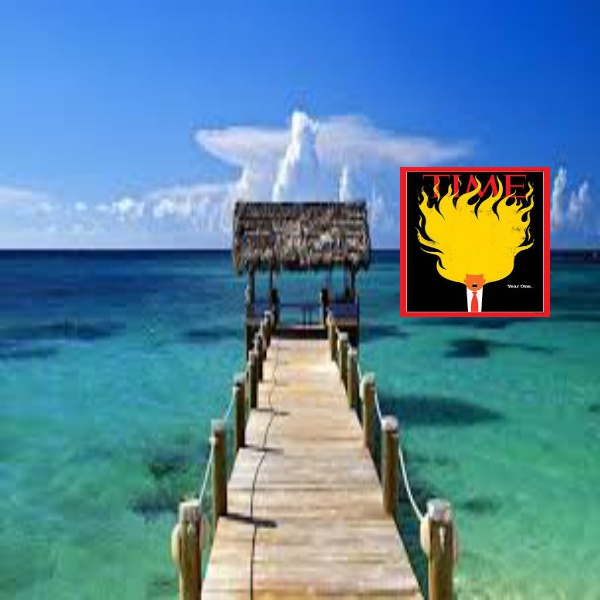time_cover: (400, 160, 551, 315)
